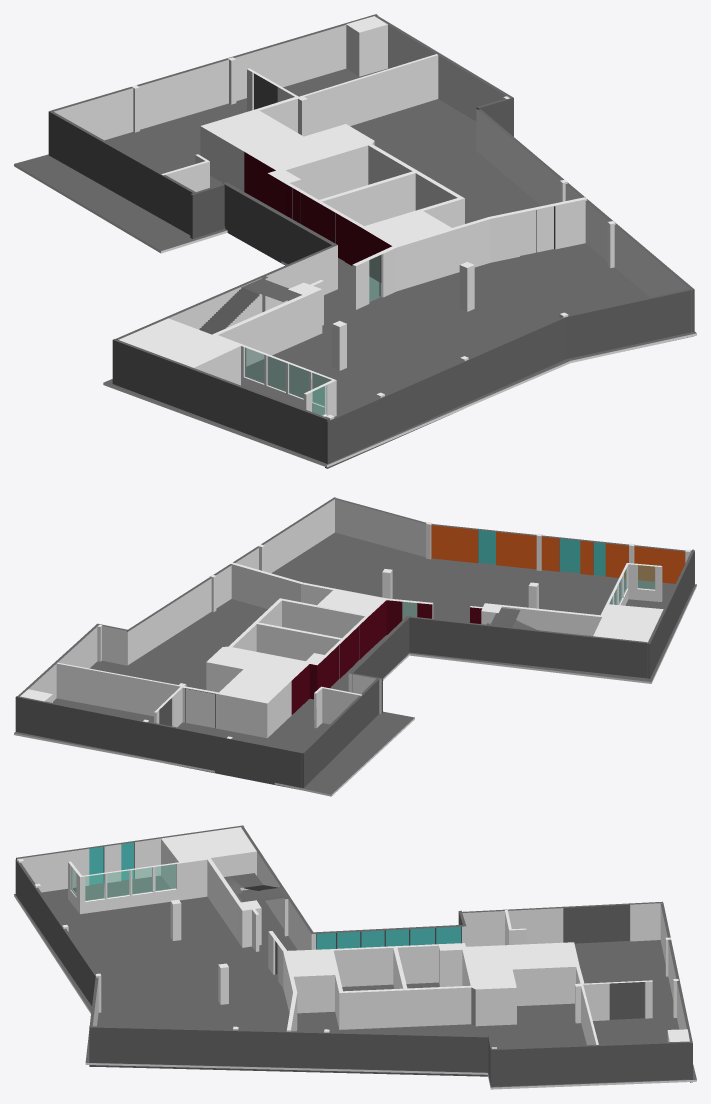
Rendered from Basement.fbx.
The picture shows the model from 3 angles, top to bottom: view 1: azimuth 30°, elevation 25°; view 2: azimuth 150°, elevation 25°; view 3: azimuth 270°, elevation 25°; orthographic projection. The views are drawn at different scales.
Parts seen in each view (by area): view 1: ExteriorWalls, Inside, Floor001; view 2: ExteriorWalls, Inside, Floor001; view 3: ExteriorWalls, Inside, Floor001.
Part boxes in pixels (x1,y1,x2,y2): ExteriorWalls: [48, 14, 694, 468]; Inside: [118, 16, 615, 419]; Floor001: [14, 68, 696, 467]; ExteriorWalls: [15, 497, 694, 788]; Inside: [20, 522, 690, 738]; Floor001: [14, 532, 696, 796]; ExteriorWalls: [15, 825, 692, 1086]; Inside: [17, 827, 689, 1048]; Floor001: [14, 875, 696, 1089].
Size of the model in its own units: 3472 by 320 by 4406.
